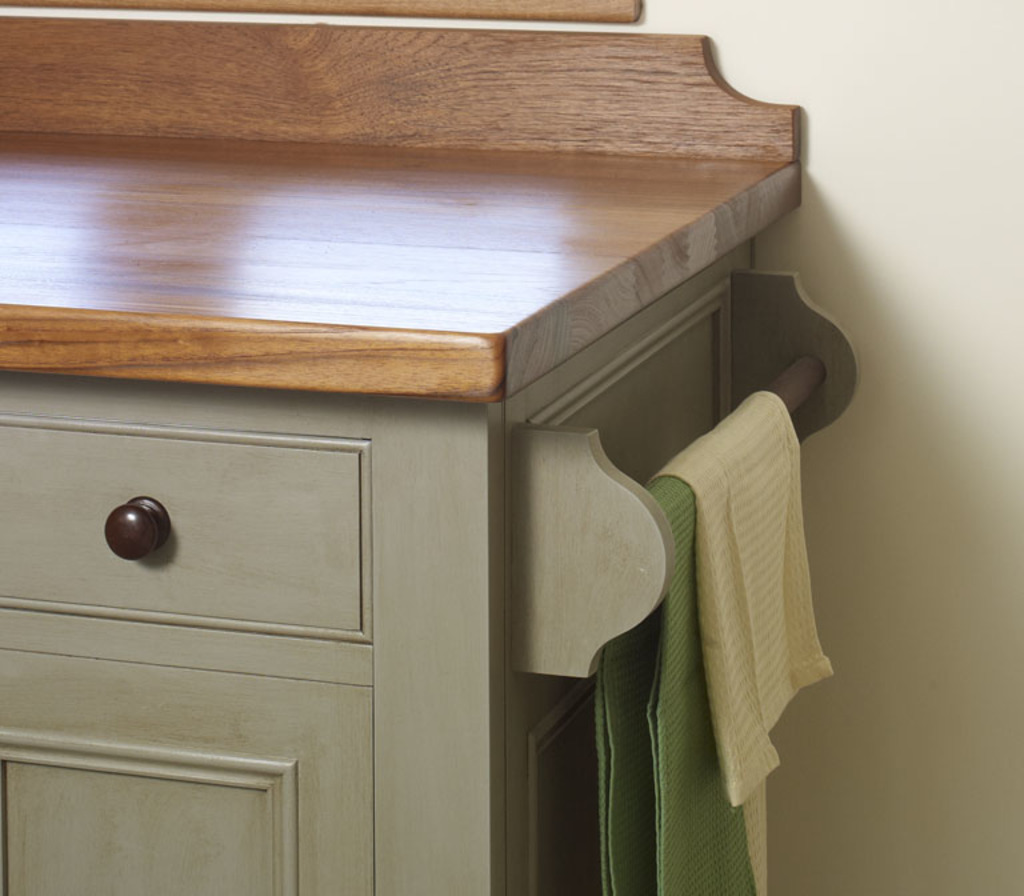cabinet door: (4, 396, 379, 653), (23, 673, 382, 896)
handle: (108, 492, 173, 567)
